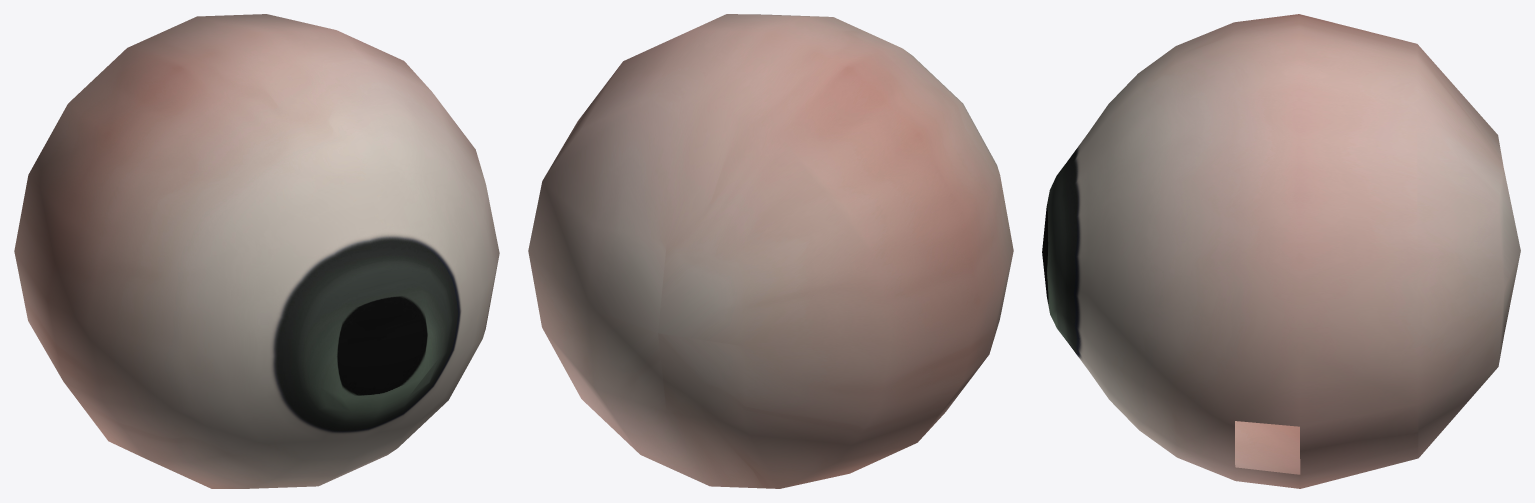
The model's file is Eye.fbx.
3 views of the same model, side by side, from view 1: azimuth 30°, elevation 25°; view 2: azimuth 150°, elevation 25°; view 3: azimuth 270°, elevation 25° (orthographic).
Visible parts, largest first — view 1: Silme; view 2: Silme; view 3: Silme.
Part boxes in pixels (box(x1,y1,x2,y2)): Silme: box(14, 14, 499, 488); Silme: box(528, 14, 1013, 488); Silme: box(1042, 14, 1520, 488).
Size of the model in its own units: 3.56 by 3.56 by 3.59.
